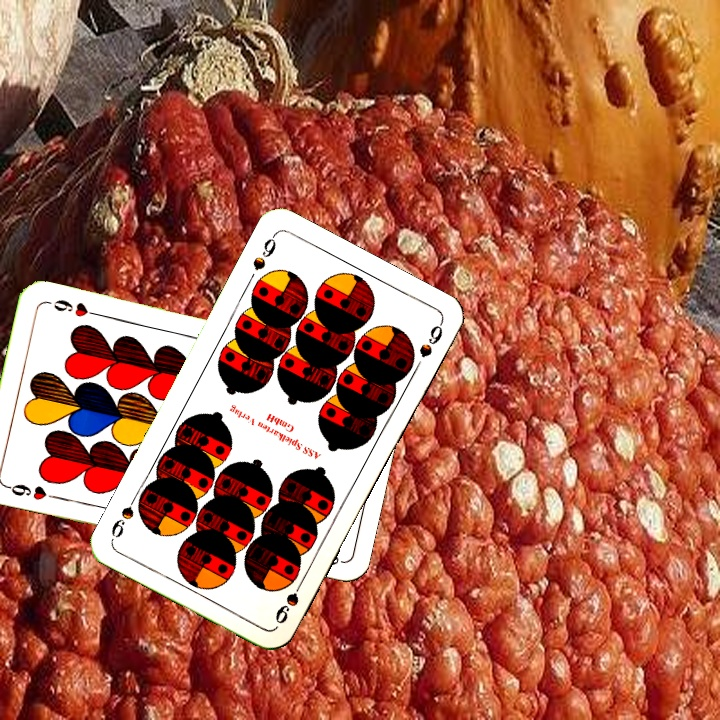H9: (1, 480, 60, 503)
S9: (271, 574, 308, 627), (248, 230, 279, 274)
